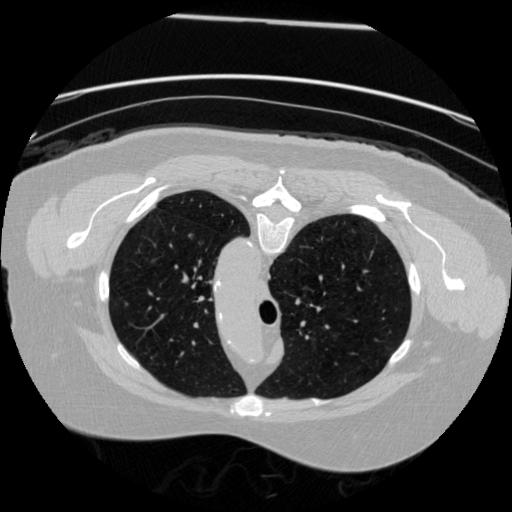nodule: (187, 231, 199, 243)
